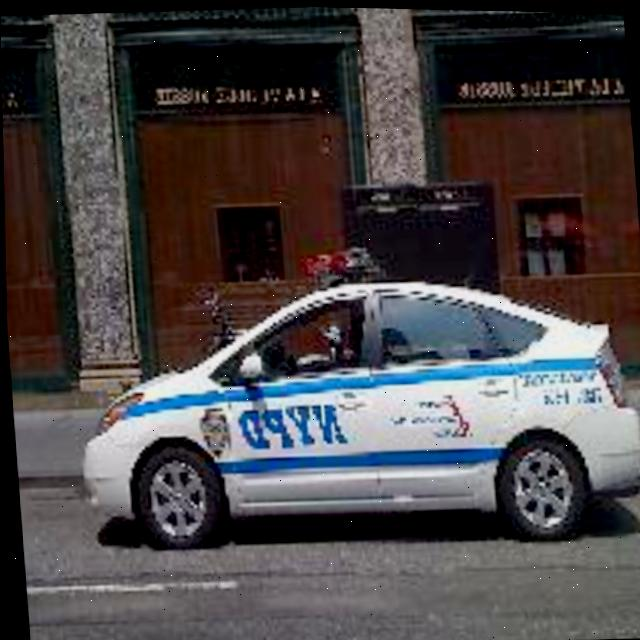emergency: (72, 268, 634, 568)
